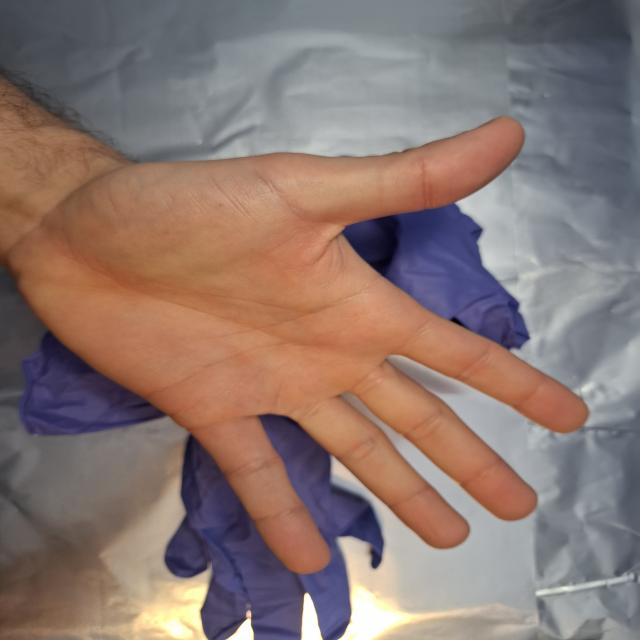glove_off: (4, 115, 592, 578)
